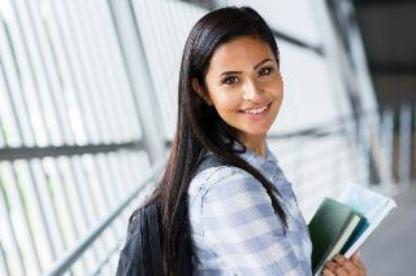person: (114, 2, 336, 276)
